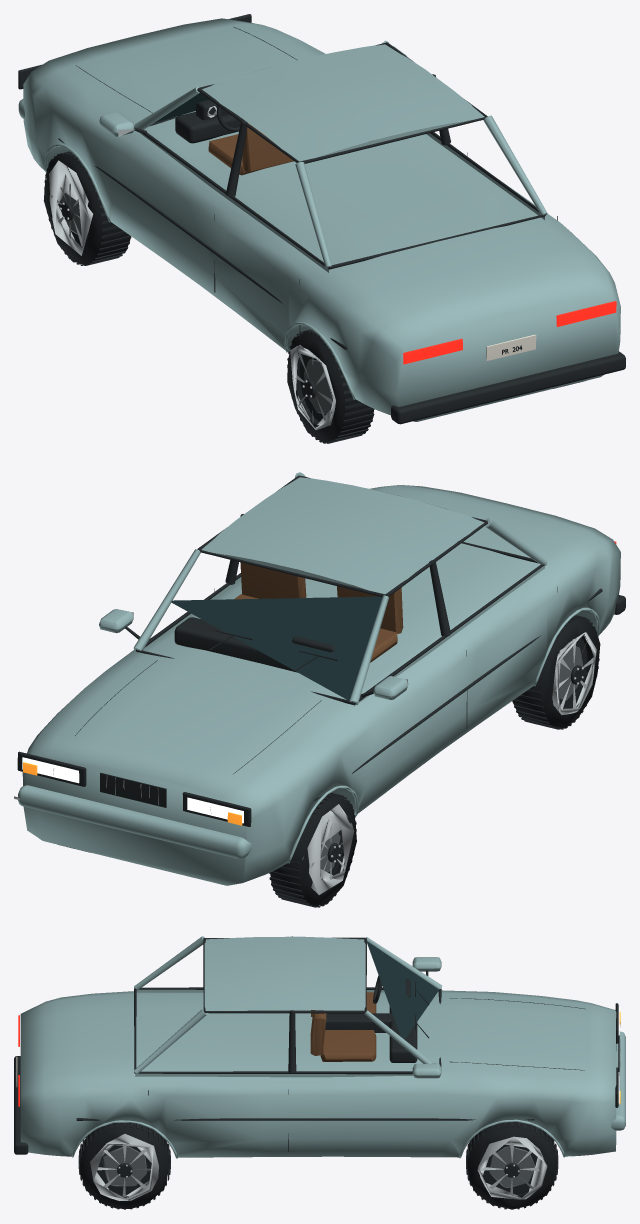
Rendered from traffic-sedan-lod.glb.
3 renders of one model, top to bottom at view 1: azimuth 30°, elevation 25°; view 2: azimuth 150°, elevation 25°; view 3: azimuth 270°, elevation 25°, orthographic. The views are drawn at different scales.
Parts seen in each view (by area): view 1: Traffic enamel, Traffic polymer, Traffic tire rubber, Traffic satin alloy, Traffic upholstery, Traffic ruby lamps, Dark brake steel, Traffic registration; view 2: Traffic enamel, Traffic polymer, Traffic smoked glazing, Traffic tire rubber, Traffic satin alloy, Traffic upholstery, Traffic ivory lamps, Dark brake steel; view 3: Traffic enamel, Traffic polymer, Traffic tire rubber, Traffic satin alloy, Traffic smoked glazing, Traffic upholstery, Dark brake steel.
Part boxes in pixels (box(x1,y1,x2,y2)): Traffic enamel: box(18, 18, 620, 421); Traffic polymer: box(18, 14, 625, 443); Traffic tire rubber: box(43, 153, 373, 442); Traffic satin alloy: box(46, 106, 335, 429); Traffic upholstery: box(208, 120, 373, 175); Traffic ruby lamps: box(403, 301, 616, 364); Dark brake steel: box(61, 193, 332, 414); Traffic registration: box(486, 334, 536, 361); Traffic enamel: box(18, 472, 620, 885); Traffic polymer: box(17, 475, 625, 907); Traffic smoked glazing: box(171, 596, 382, 700); Traffic tire rubber: box(270, 617, 600, 905); Traffic satin alloy: box(14, 612, 596, 894); Traffic upholstery: box(234, 561, 403, 662); Traffic ivory lamps: box(22, 757, 243, 823); Dark brake steel: box(320, 646, 583, 872); Traffic enamel: box(20, 936, 625, 1158); Traffic polymer: box(14, 936, 619, 1209); Traffic tire rubber: box(80, 1122, 557, 1209); Traffic satin alloy: box(90, 1022, 625, 1200); Traffic smoked glazing: box(367, 941, 438, 1039); Traffic upholstery: box(310, 992, 376, 1061); Dark brake steel: box(102, 1146, 534, 1187).
Bounding box in the file's own units: 2.08 × 1.61 × 4.68.
